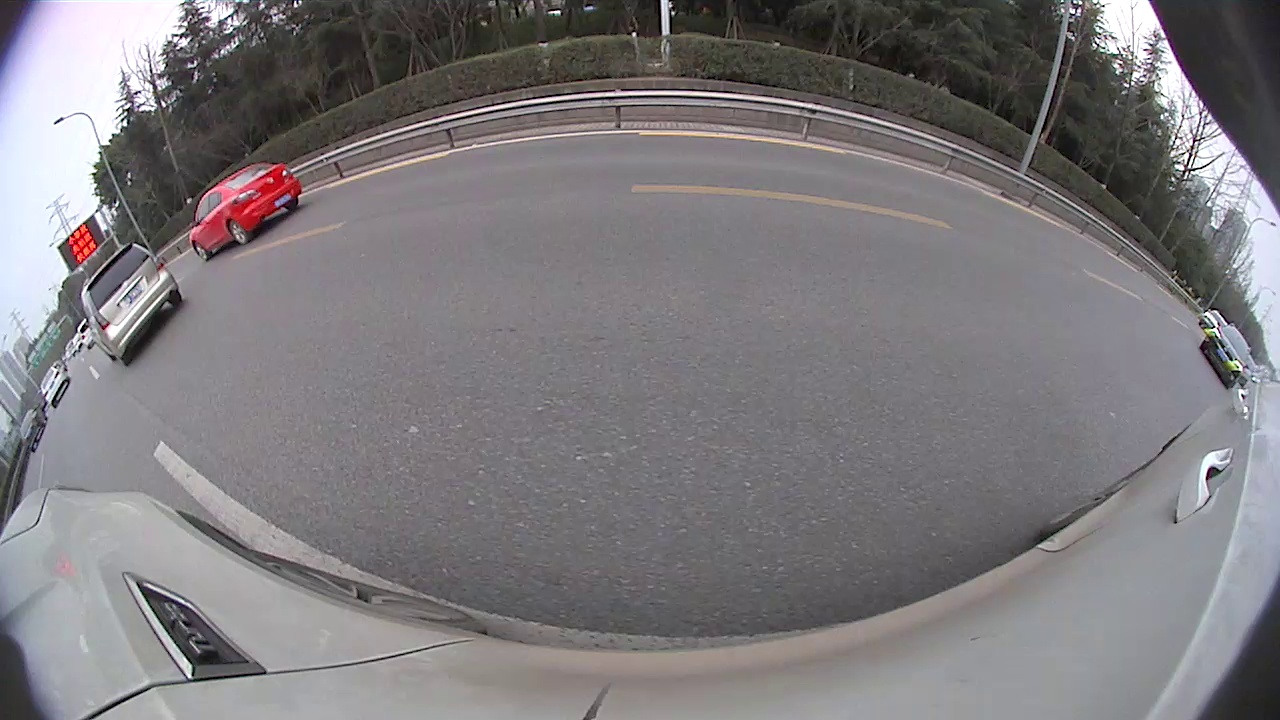bus: (1017, 109, 1279, 416), (823, 130, 1061, 259), (707, 147, 743, 177)
car: (1, 188, 311, 489), (754, 134, 896, 228), (594, 135, 697, 217), (454, 153, 554, 220), (544, 158, 593, 193), (720, 159, 764, 187)
front: (1124, 269, 1197, 354), (756, 176, 773, 204)
rear: (213, 260, 305, 361), (950, 200, 981, 239), (798, 185, 820, 219), (519, 186, 531, 211)
